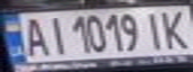0: (84, 11, 106, 53)
1: (66, 12, 90, 54), (103, 11, 124, 52)
9: (118, 10, 145, 52)
A: (18, 15, 51, 57)
I: (139, 8, 172, 51), (42, 14, 69, 56)
K: (157, 7, 193, 51)
